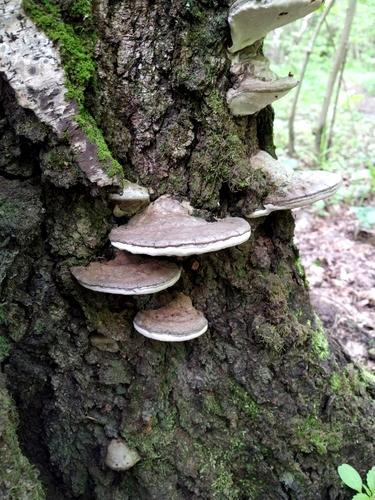Ganoderma - Fruit Body: (65, 189, 250, 342), (257, 152, 347, 216), (226, 0, 324, 54), (226, 73, 299, 118)
